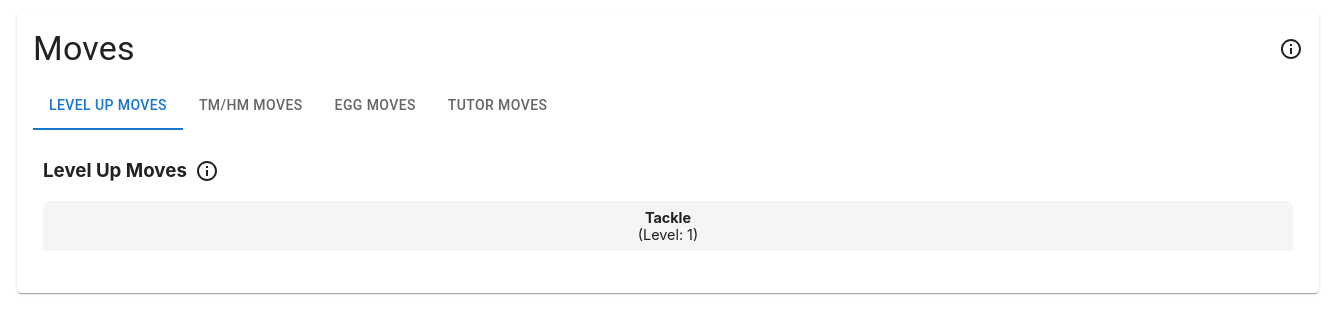
Moves Component › renders Tutor Moves tab and shows moves when clicked
Click the Tutor Moves tab
Step 1. Click the tab "Tutor Moves" → (498, 106), box [432,82,563,130]
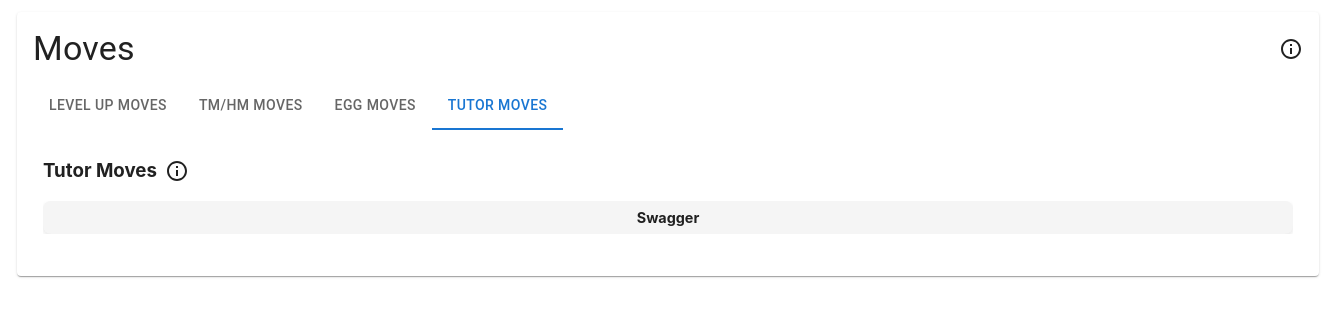
Expected: the text "swagger" is shown, [637,209,699,226]
